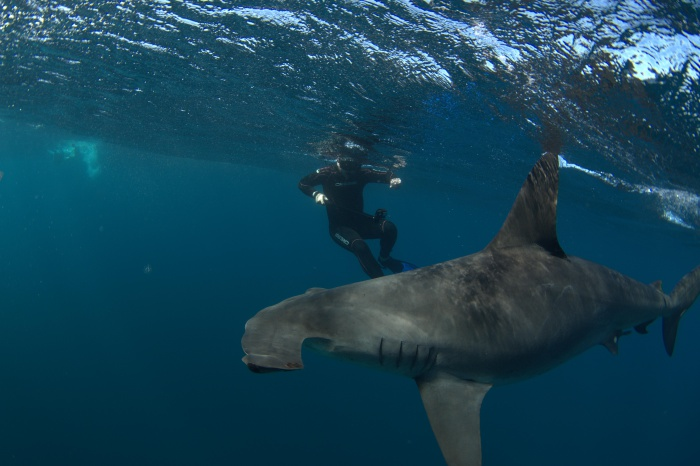Hammer: (245, 135, 700, 461)
